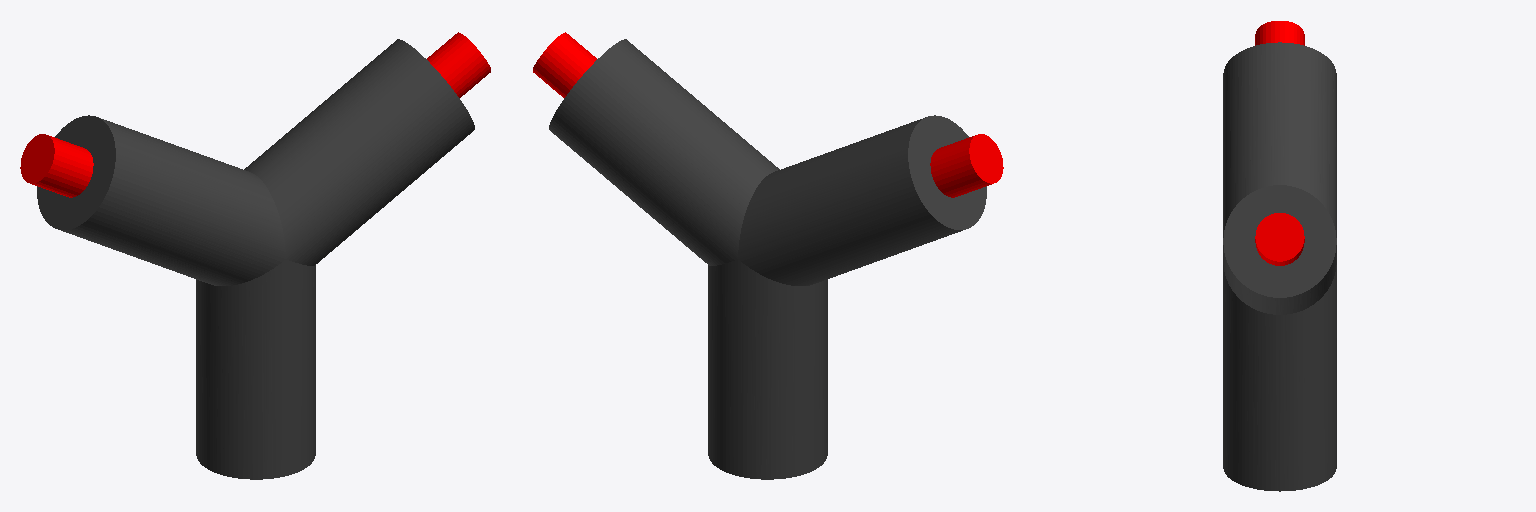
The robot description file, URDF, robot "example_robot":
<?xml version="1.0" ?>
<robot name="example_robot">

	<!-- * * * Link Definitions * * * -->
	
	<link name="tcp_stl">
		<visual>
			<origin xyz="0 0 0" rpy="0 0 0"/>
			<material name="grey">
				<color rgba="0.3 0.3 0.3 1"/>
			</material>
            <geometry>
                <mesh filename="tool_mesh/KM_m.stl"/>
            </geometry>
		</visual>
	</link>
	<link name="tcp"/>
	<link name="fl1">
		<visual>
			<origin xyz="0 0 0" rpy="0 0 0"/>
			<material name="red">
				<color rgba="1 0 0 1"/>
			</material>
			<geometry>
				<cylinder length="0.2" radius="0.05"/>
			</geometry>
		</visual>
	</link>
	<link name="fl2">
		<visual>
			<origin xyz="0 0 0" rpy="0 0 0"/>
			<material name="red">
				<color rgba="1 0 0 1"/>
			</material>
			<geometry>
				<cylinder length="0.2" radius="0.05"/>
			</geometry>
		</visual>
	</link>
	<joint name="tcp" type="fixed">
		<parent link="tcp_stl"/>
		<child link="tcp"/>
		<origin xyz="0 0 0" rpy="0 0 0"/>
	</joint>
	<joint name="fl1" type="fixed">
		<parent link="tcp_stl"/>
		<child link="fl1"/>
		<origin xyz="0.4 0 0.6928" rpy="0 -2.0943951023932 0"/>
	</joint>
	<joint name="fl2" type="fixed">
		<parent link="tcp_stl"/>
		<child link="fl2"/>
		<origin xyz="-0.4 0 0.6928" rpy="0 2.0943951023932 0"/>
	</joint>


</robot>

--- Facts derived from the render (not from the file) ---
Views: 3 orthographic renders of the robot side by side, from view 1: azimuth 30°, elevation 25°; view 2: azimuth 150°, elevation 25°; view 3: azimuth 270°, elevation 25°.
Robot: example_robot — 4 links, 3 joints (3 fixed); root link tcp_stl; default pose: all joints at 0.
Links seen in each view (by area): view 1: tcp_stl, fl2, fl1; view 2: tcp_stl, fl2, fl1; view 3: tcp_stl, fl1, fl2.
Boxes of the visible links, <box> form: tcp_stl: <box>37,39,474,479</box>; fl2: <box>20,134,93,197</box>; fl1: <box>427,32,490,97</box>; tcp_stl: <box>549,39,986,479</box>; fl2: <box>930,134,1003,197</box>; fl1: <box>533,32,596,97</box>; tcp_stl: <box>1223,42,1336,491</box>; fl1: <box>1255,213,1304,265</box>; fl2: <box>1255,21,1304,45</box>.
Bounding box of the posed robot: 1.02 × 0.23 × 0.7924 m (x, y, z).
Meshes: 1 distinct files referenced, 1 mesh visuals loaded (1 binary STL).